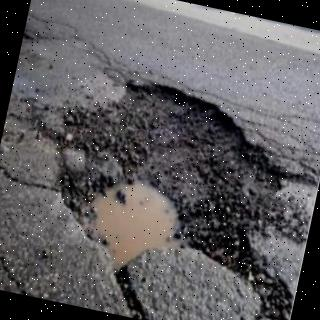pothole: (29, 82, 316, 320)
